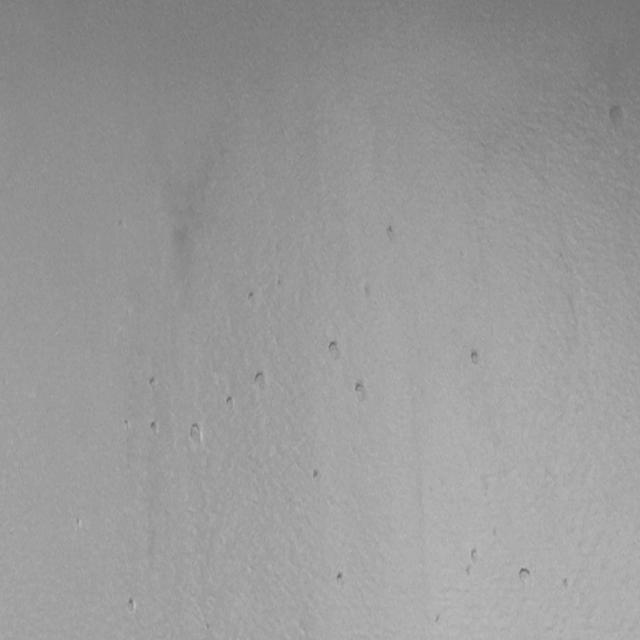pin holes: (606, 104, 631, 137), (515, 564, 536, 589), (187, 422, 206, 448), (465, 546, 484, 570), (382, 222, 402, 244), (144, 418, 164, 440), (323, 339, 342, 362), (253, 369, 271, 393), (354, 378, 372, 400), (245, 288, 259, 310), (469, 348, 485, 367), (124, 596, 140, 614), (224, 394, 238, 414), (335, 570, 349, 589), (363, 281, 374, 305), (148, 373, 162, 390), (310, 469, 324, 485), (559, 576, 573, 591), (122, 416, 133, 434), (148, 418, 160, 433), (150, 422, 161, 438), (434, 612, 445, 624), (76, 514, 82, 529)
